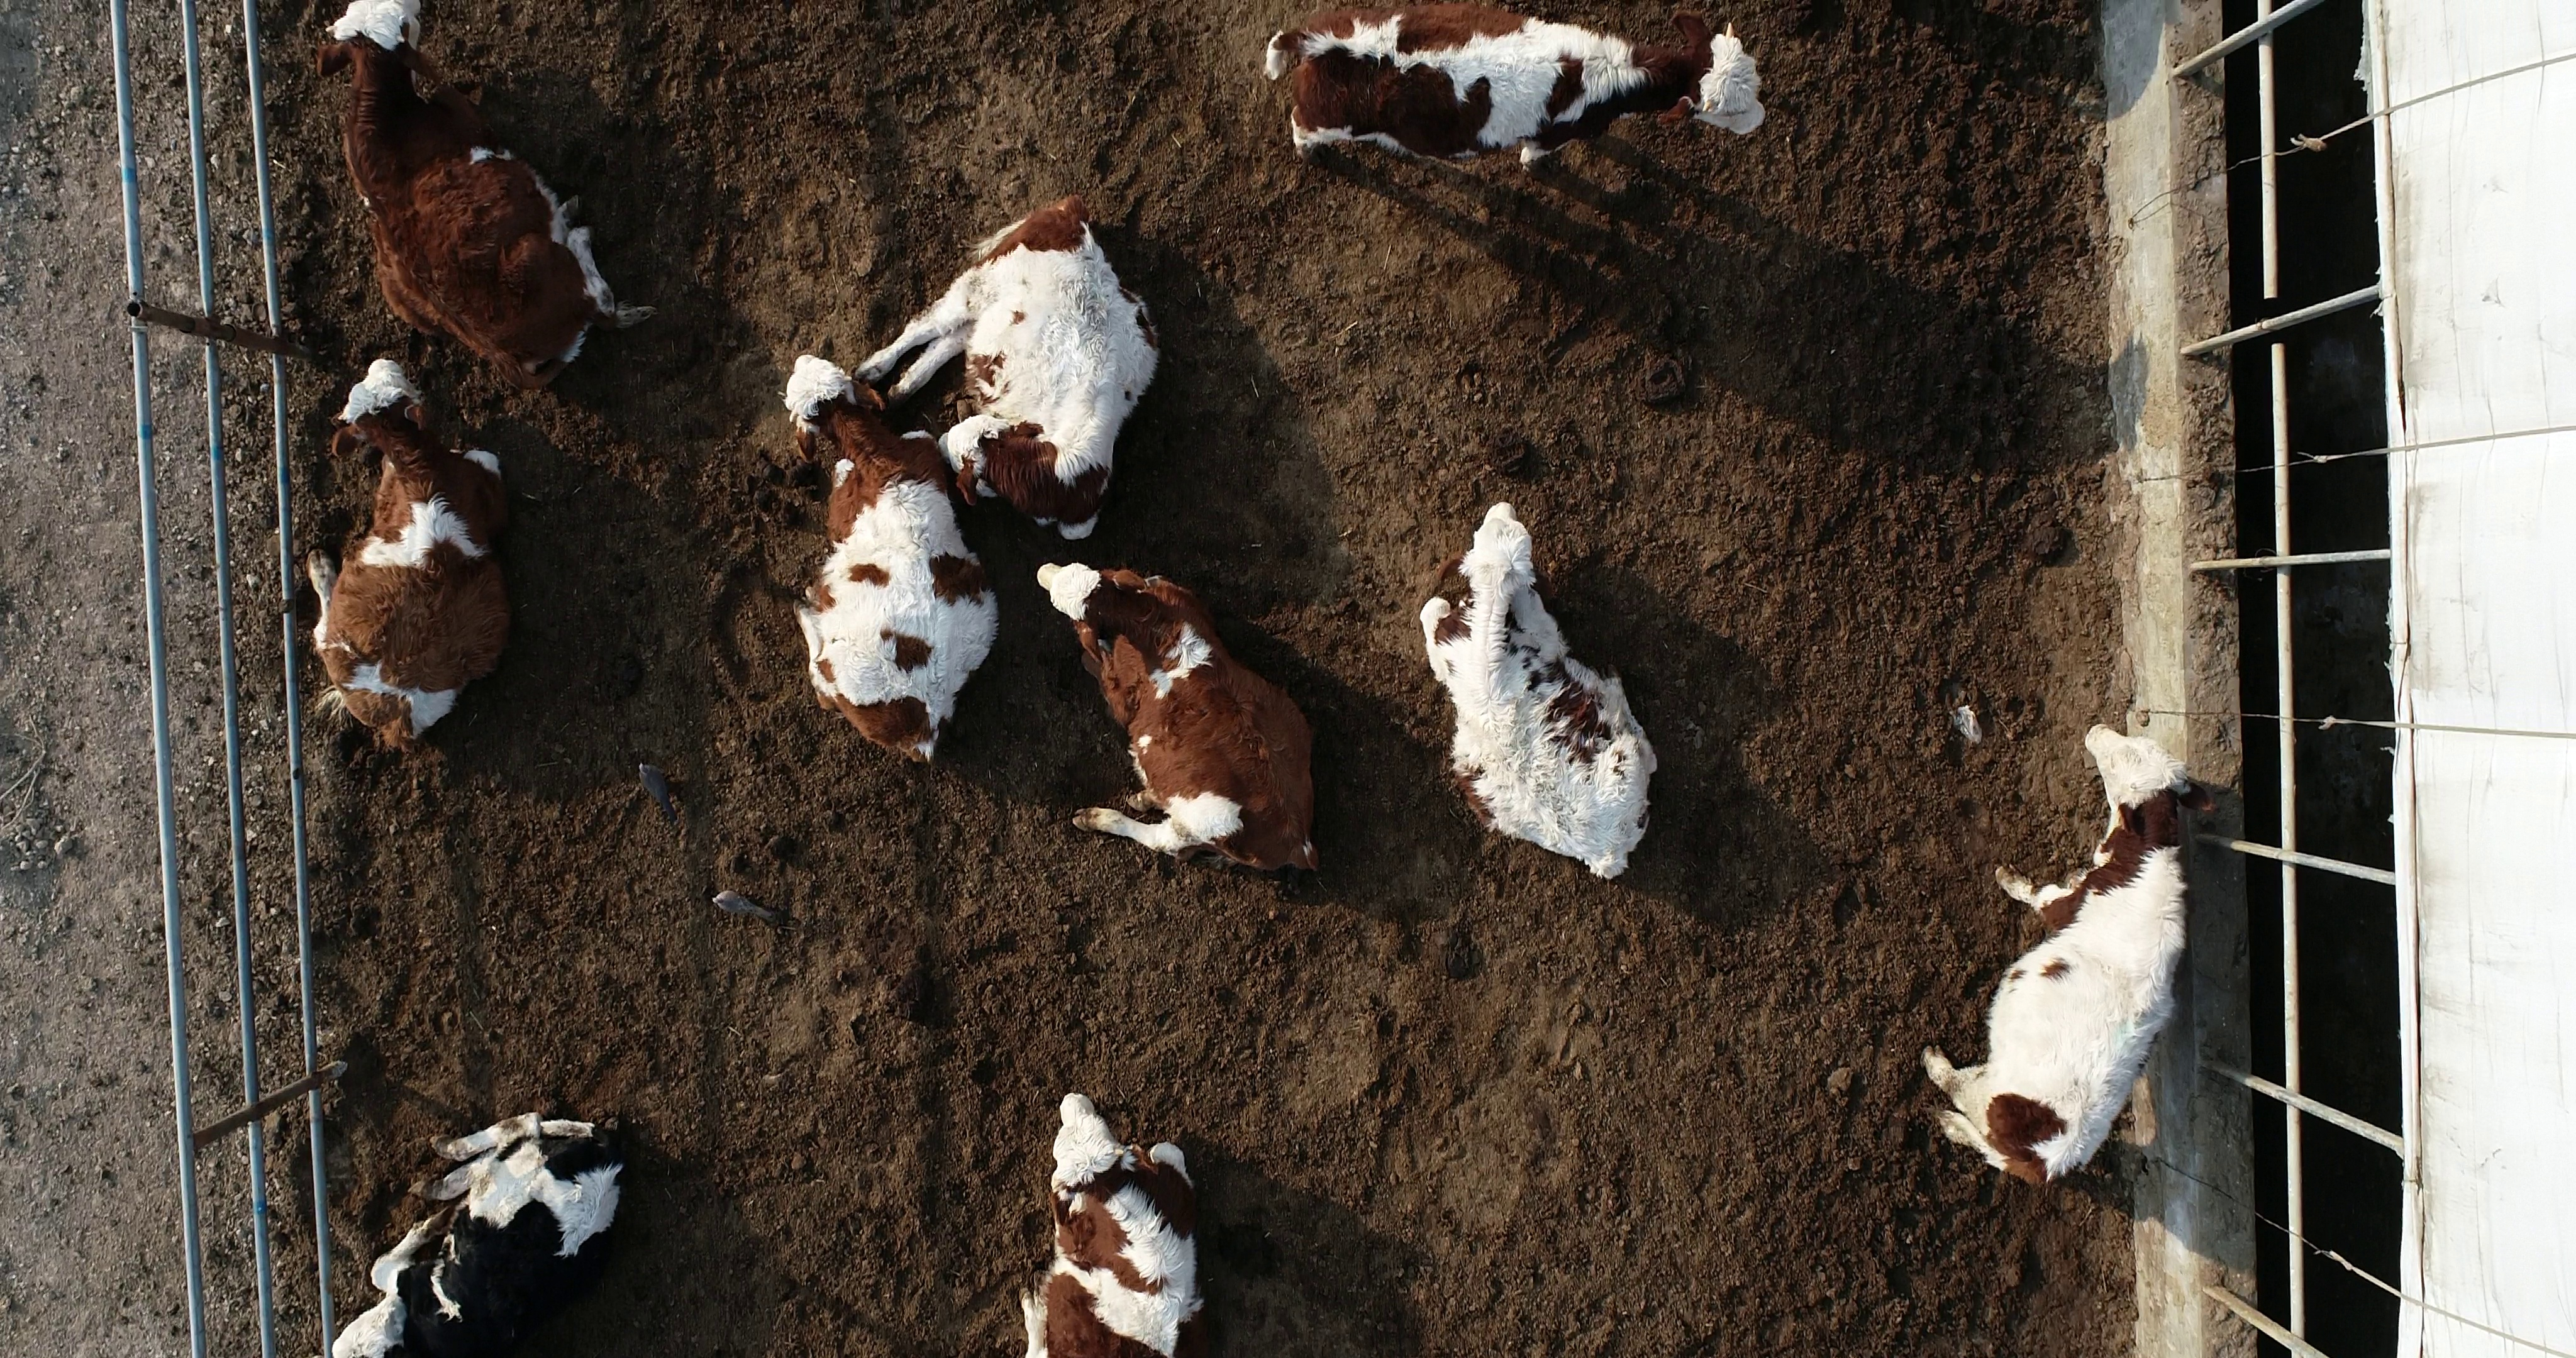cattle: (1913, 719, 2220, 1200), (777, 348, 1007, 770), (1414, 499, 1663, 884), (1261, 0, 1772, 181), (293, 354, 520, 760)
